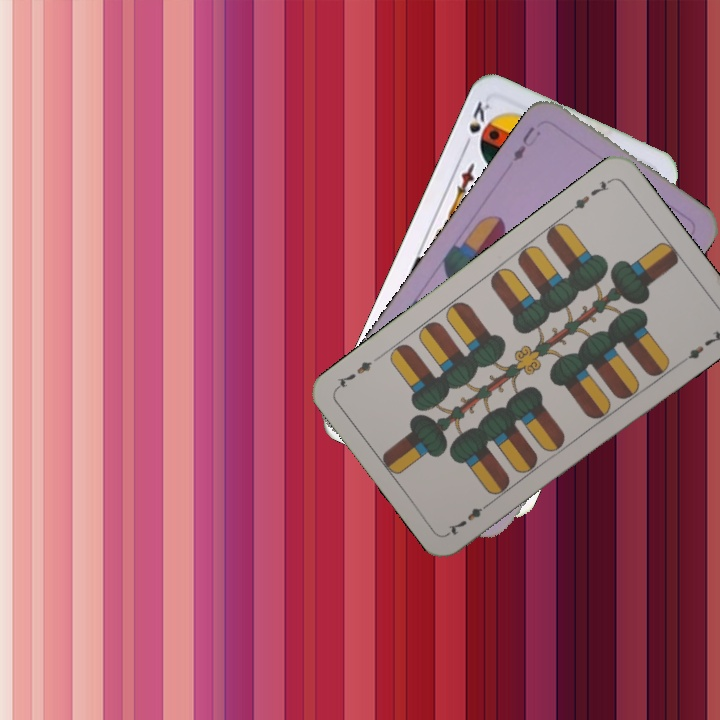E7: (564, 175, 615, 216), (444, 497, 495, 538)
EU: (508, 122, 543, 164)
SK: (459, 97, 496, 152)
